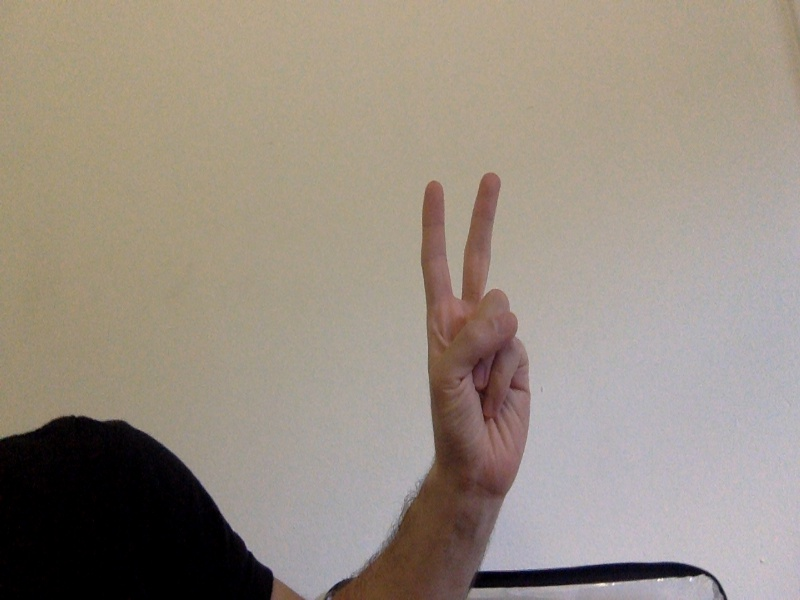2-hand: (421, 173, 532, 486)
